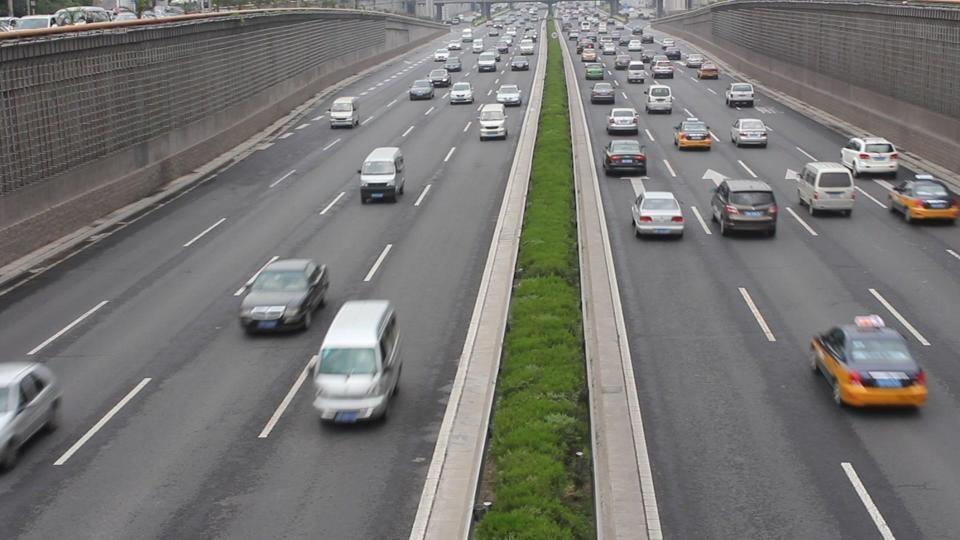car: (312, 298, 405, 426), (809, 317, 928, 412), (236, 258, 330, 335), (0, 359, 64, 471), (708, 179, 779, 238), (887, 175, 960, 225), (795, 160, 858, 217), (630, 190, 687, 239), (358, 146, 406, 204), (840, 135, 901, 179), (603, 138, 648, 178), (673, 117, 715, 151), (729, 117, 770, 148), (478, 102, 508, 141), (605, 106, 640, 136), (644, 84, 673, 114), (496, 83, 523, 107), (590, 81, 617, 105), (448, 82, 474, 105), (410, 79, 434, 100), (476, 53, 498, 73), (627, 65, 648, 84), (429, 68, 451, 86)
